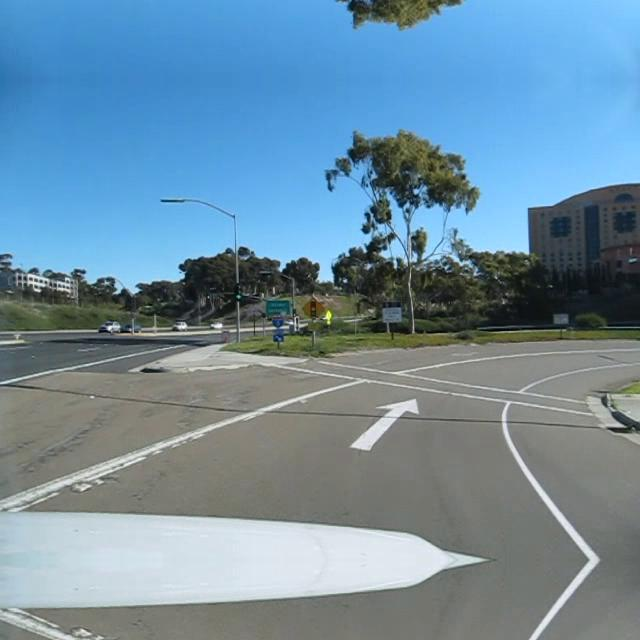signalAhead: (300, 296, 326, 320)
